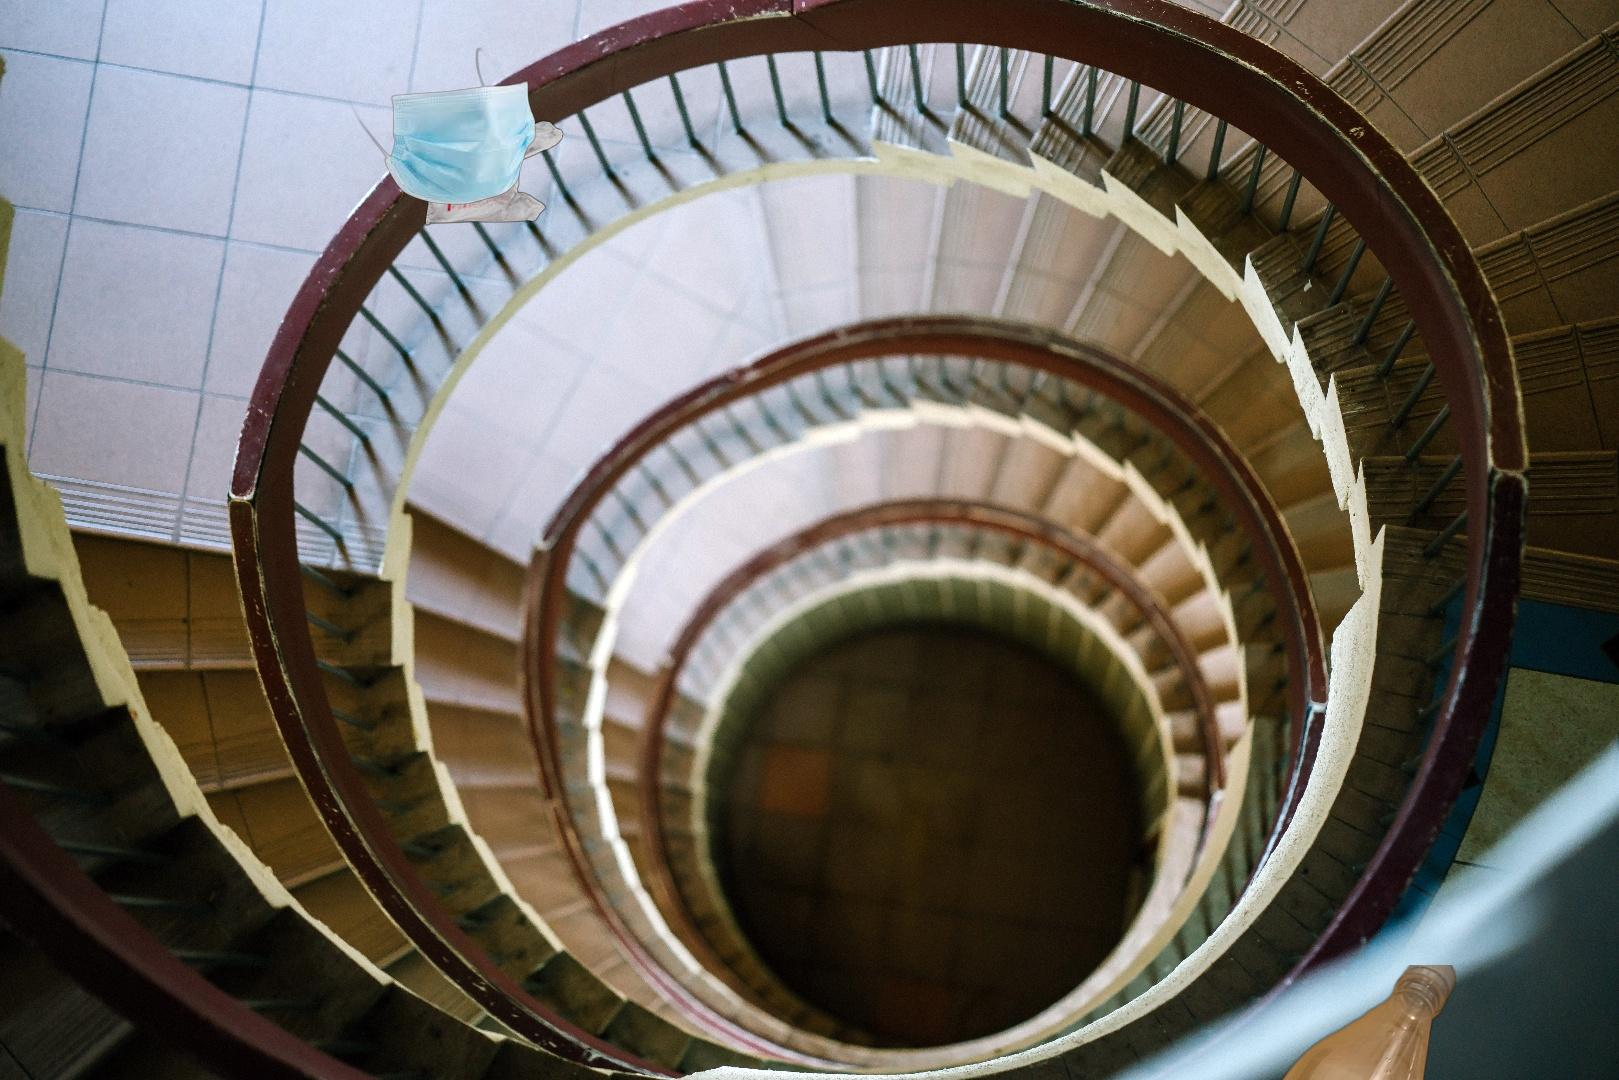plastic-bag: (418, 118, 567, 228)
plastic-bottles: (1111, 965, 1462, 1080)
trash: (341, 46, 539, 207)
